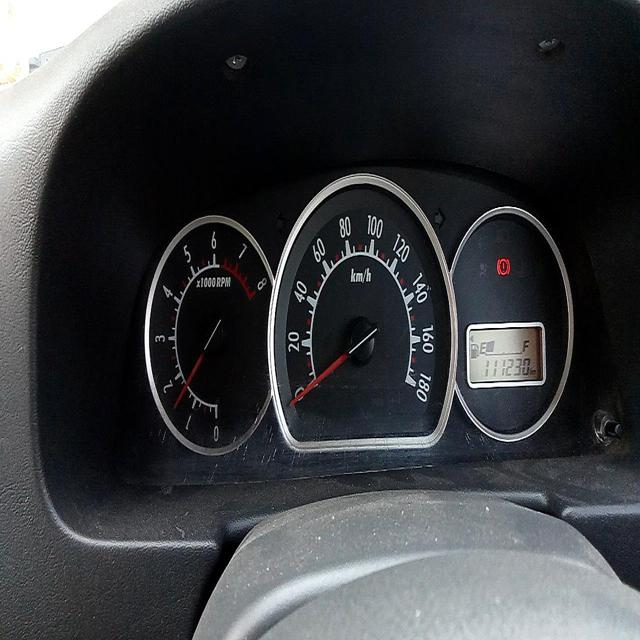odometer: (482, 355, 532, 380)
